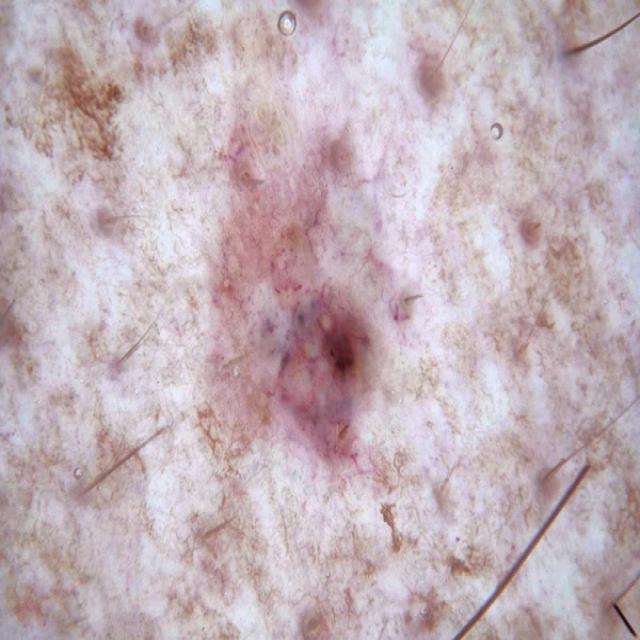Basal-Cell-Carcinoma-BCC-: (3, 27, 601, 574)
